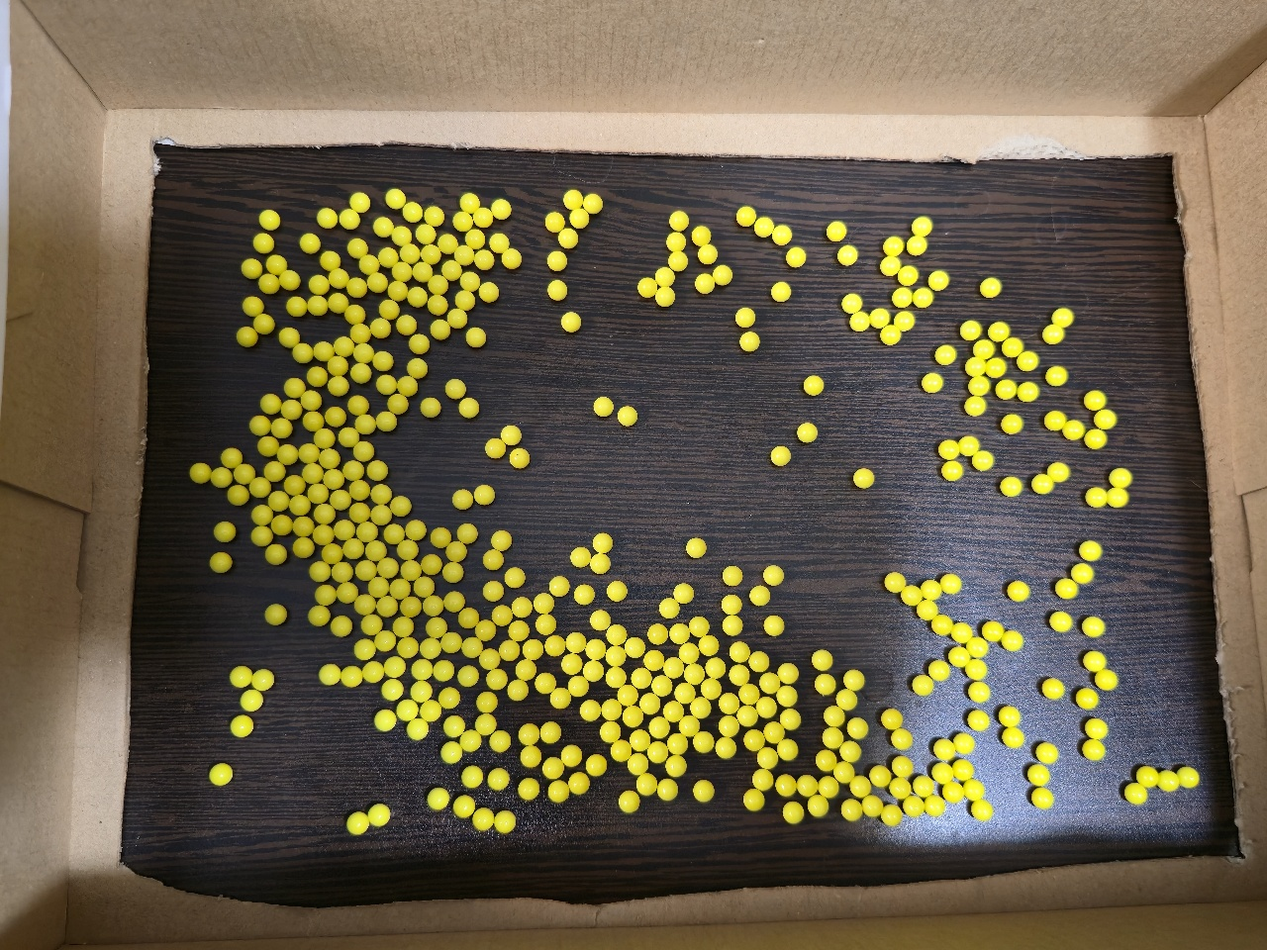yellow_bead: (373, 808, 385, 821), (245, 695, 257, 707), (352, 817, 363, 829), (446, 746, 457, 758), (412, 723, 423, 735), (380, 714, 391, 726), (387, 684, 398, 696), (257, 674, 268, 686), (433, 793, 444, 804), (465, 735, 476, 746), (416, 687, 427, 698), (848, 675, 859, 686), (359, 644, 370, 655), (425, 643, 436, 654), (480, 718, 490, 730), (448, 721, 458, 732), (325, 669, 335, 680), (417, 664, 427, 675), (890, 578, 901, 588), (842, 250, 853, 260), (402, 705, 412, 715), (918, 680, 928, 690), (755, 591, 765, 601), (744, 336, 754, 346), (847, 299, 857, 309), (759, 222, 769, 232), (344, 214, 354, 224), (236, 672, 245, 683), (391, 661, 399, 673), (467, 771, 476, 781), (768, 571, 778, 580), (448, 567, 457, 577), (858, 474, 868, 483), (776, 451, 785, 461), (506, 430, 515, 440), (803, 428, 813, 437), (623, 412, 633, 421), (464, 403, 473, 413), (599, 402, 608, 412), (450, 384, 459, 394), (566, 318, 576, 327), (855, 317, 864, 327), (660, 292, 670, 301), (776, 287, 786, 296), (700, 279, 710, 288), (719, 270, 728, 280), (493, 774, 501, 785), (764, 678, 772, 689), (463, 671, 471, 682), (664, 603, 672, 614), (885, 261, 896, 269), (662, 784, 669, 796), (502, 816, 511, 825), (828, 711, 837, 720), (484, 655, 493, 664), (595, 616, 604, 625), (517, 603, 526, 612), (488, 587, 497, 596), (471, 332, 480, 341), (553, 285, 562, 294), (552, 256, 561, 265), (791, 251, 800, 260), (408, 207, 417, 216), (355, 198, 364, 207), (215, 770, 223, 780), (844, 746, 852, 756), (820, 679, 828, 689), (817, 655, 825, 665), (769, 621, 779, 629), (575, 552, 583, 562), (691, 543, 699, 553), (940, 350, 950, 358), (876, 313, 884, 323), (913, 241, 923, 249), (497, 204, 505, 214), (391, 194, 399, 204), (495, 735, 502, 746), (852, 722, 859, 733), (644, 699, 651, 710), (782, 691, 789, 702), (783, 668, 790, 679), (381, 635, 388, 646), (467, 643, 475, 652), (446, 637, 454, 646), (674, 629, 683, 637), (538, 599, 547, 607), (612, 587, 620, 596), (554, 582, 562, 591), (457, 495, 466, 503), (426, 403, 434, 412), (740, 313, 749, 321), (936, 275, 944, 284), (660, 272, 669, 280), (673, 256, 682, 264), (480, 255, 488, 264), (563, 234, 572, 242), (397, 232, 406, 240), (421, 230, 430, 238), (917, 222, 926, 230), (785, 714, 792, 724), (425, 709, 435, 716), (695, 703, 702, 713), (656, 681, 663, 691), (588, 666, 595, 676), (668, 663, 675, 673), (754, 656, 761, 666), (947, 579, 954, 589), (728, 571, 735, 581), (897, 292, 907, 299), (699, 786, 705, 797), (513, 685, 519, 696), (636, 673, 642, 684), (479, 491, 490, 497), (671, 764, 679, 772), (439, 668, 447, 676), (428, 602, 436, 610), (496, 536, 504, 544), (358, 446, 366, 454), (381, 417, 389, 425), (452, 314, 460, 322), (724, 721, 731, 730), (585, 706, 592, 715), (841, 695, 848, 704), (679, 689, 686, 698), (383, 563, 392, 570), (598, 538, 605, 547), (507, 253, 516, 260), (459, 250, 468, 257), (495, 238, 504, 245), (589, 199, 596, 208), (699, 737, 705, 747), (555, 693, 561, 703), (734, 670, 740, 680), (711, 663, 717, 673), (734, 647, 740, 657), (612, 629, 618, 639), (731, 620, 737, 630), (727, 600, 733, 610), (579, 590, 585, 600), (777, 230, 787, 236), (788, 808, 795, 816), (545, 727, 552, 735), (742, 712, 749, 720), (491, 676, 499, 683), (490, 443, 497, 451), (575, 214, 583, 221), (630, 642, 635, 653), (641, 781, 647, 790), (757, 775, 763, 784), (547, 762, 553, 771), (672, 740, 678, 749), (654, 722, 660, 731), (761, 703, 767, 712), (724, 699, 730, 708), (611, 674, 617, 683), (566, 659, 572, 668), (611, 651, 617, 660), (591, 645, 597, 654), (510, 573, 519, 579), (595, 559, 601, 568), (365, 527, 371, 536), (926, 378, 932, 387), (358, 348, 367, 354), (965, 326, 974, 332), (465, 277, 474, 283), (703, 249, 712, 255), (674, 216, 683, 222), (571, 637, 576, 647), (986, 283, 996, 288), (813, 804, 820, 811), (918, 781, 925, 788), (573, 682, 580, 689), (689, 670, 696, 677), (271, 610, 278, 617), (436, 325, 443, 332), (762, 756, 768, 764), (938, 744, 946, 750), (721, 744, 727, 752), (524, 731, 530, 739), (605, 727, 611, 735), (236, 723, 242, 731), (607, 706, 613, 714), (346, 674, 354, 680), (1009, 640, 1017, 646), (679, 589, 685, 597), (927, 585, 933, 593), (377, 510, 385, 516), (419, 267, 427, 273), (447, 265, 455, 271), (379, 222, 387, 228), (741, 211, 749, 217), (465, 198, 473, 204), (568, 195, 576, 201), (624, 797, 629, 806), (828, 733, 833, 742), (462, 529, 471, 534), (982, 456, 987, 465), (344, 432, 353, 437), (460, 296, 469, 301), (484, 287, 493, 292), (478, 213, 487, 218), (846, 808, 852, 815), (459, 801, 465, 808), (521, 665, 527, 672), (528, 645, 534, 652), (449, 597, 456, 603), (488, 555, 494, 562), (372, 547, 379, 553), (971, 362, 978, 368), (406, 249, 413, 255), (443, 239, 450, 245), (671, 238, 678, 244), (264, 215, 271, 221), (323, 213, 329, 220), (524, 786, 529, 794), (633, 761, 638, 769), (566, 750, 571, 758), (540, 679, 545, 687), (652, 629, 657, 637), (550, 218, 555, 226), (684, 722, 690, 728), (668, 708, 674, 714), (743, 692, 749, 698), (623, 692, 629, 698), (370, 667, 376, 673), (506, 645, 510, 654), (694, 622, 700, 628), (433, 622, 439, 628), (314, 611, 320, 617), (377, 490, 386, 494), (1038, 479, 1044, 485), (809, 381, 815, 387), (526, 752, 531, 759), (783, 745, 788, 752), (960, 738, 967, 743), (540, 620, 545, 627), (370, 619, 375, 626), (363, 565, 368, 572), (338, 496, 343, 503), (403, 320, 410, 325), (413, 363, 421, 367), (832, 227, 840, 231), (839, 771, 845, 776), (384, 602, 390, 607), (361, 600, 367, 605), (422, 582, 427, 588), (1114, 493, 1120, 498), (331, 474, 337, 479), (383, 380, 388, 386), (1049, 330, 1059, 333), (922, 293, 927, 299), (402, 623, 406, 630), (411, 525, 418, 529), (416, 339, 423, 343), (1060, 313, 1067, 317), (414, 292, 421, 296), (398, 267, 405, 271), (897, 764, 902, 769), (341, 525, 346, 530), (1116, 473, 1121, 478), (1106, 415, 1111, 420), (380, 356, 385, 361), (300, 348, 305, 353), (643, 283, 648, 288), (887, 814, 891, 820), (804, 781, 808, 787), (652, 750, 658, 754), (634, 739, 640, 743), (933, 668, 937, 674), (340, 622, 344, 628), (362, 421, 368, 425), (435, 280, 441, 284), (432, 212, 438, 216), (341, 568, 344, 575), (376, 324, 383, 327), (458, 217, 465, 220), (481, 818, 486, 822), (554, 789, 559, 793), (875, 775, 880, 779), (591, 762, 596, 766), (770, 729, 775, 733), (628, 713, 633, 717), (516, 627, 520, 632), (319, 568, 323, 573), (453, 547, 458, 551), (392, 529, 397, 533), (399, 501, 403, 506), (375, 467, 379, 472), (352, 466, 356, 471), (359, 368, 364, 372), (341, 341, 346, 345), (374, 278, 379, 282), (315, 301, 321, 304), (857, 785, 861, 789), (447, 696, 451, 700), (409, 566, 413, 570), (316, 489, 320, 493), (973, 404, 977, 408), (385, 252, 389, 256), (698, 231, 702, 235), (498, 613, 503, 616), (377, 582, 380, 587), (406, 545, 409, 550), (324, 509, 327, 514), (1011, 484, 1014, 489), (311, 469, 314, 474), (266, 400, 271, 403), (291, 383, 296, 386), (336, 382, 341, 385), (406, 381, 411, 384), (317, 280, 322, 283), (366, 260, 371, 263), (354, 243, 359, 246), (308, 238, 313, 241), (260, 238, 265, 241), (471, 235, 476, 238), (427, 250, 434, 252), (891, 241, 898, 243), (869, 805, 873, 808), (825, 786, 828, 790), (574, 783, 578, 786), (821, 759, 825, 762), (551, 643, 555, 646), (324, 593, 328, 596), (345, 589, 348, 593), (398, 586, 402, 589), (1091, 546, 1094, 550), (277, 496, 280, 500), (272, 468, 276, 471), (327, 454, 330, 458), (309, 396, 312, 400), (322, 346, 325, 350), (437, 300, 440, 304), (289, 275, 293, 278), (247, 264, 251, 267), (984, 344, 986, 349), (387, 305, 392, 307), (979, 691, 982, 694), (1095, 660, 1098, 663), (352, 545, 355, 548), (260, 532, 263, 535), (336, 361, 339, 364), (288, 333, 291, 336), (290, 405, 292, 409), (338, 298, 340, 302), (976, 669, 979, 671), (408, 647, 410, 650), (911, 594, 914, 596), (256, 422, 259, 424), (1027, 390, 1030, 392), (397, 287, 400, 289), (337, 274, 340, 276), (330, 256, 333, 258), (616, 749, 620, 750), (962, 631, 964, 633), (1059, 621, 1061, 623), (439, 534, 441, 536), (262, 513, 264, 515), (221, 473, 223, 475), (309, 450, 311, 452), (967, 444, 969, 446), (280, 425, 282, 427), (397, 401, 399, 403), (901, 317, 903, 319), (356, 283, 358, 285), (906, 271, 908, 273), (275, 260, 277, 262), (912, 808, 915, 809), (749, 799, 752, 800), (275, 553, 278, 554), (224, 528, 225, 531), (286, 452, 289, 453), (940, 773, 942, 774), (649, 660, 651, 661), (925, 609, 926, 611), (324, 434, 325, 436), (1027, 361, 1029, 362), (355, 310, 356, 312), (902, 739, 903, 740), (753, 739, 754, 740), (485, 628, 486, 629), (468, 617, 469, 618), (432, 563, 433, 564), (221, 561, 222, 562), (300, 503, 301, 504), (259, 486, 260, 487), (1059, 471, 1060, 472), (232, 455, 233, 456), (358, 403, 359, 404), (1007, 388, 1008, 389), (980, 384, 981, 385), (1000, 330, 1001, 331)
